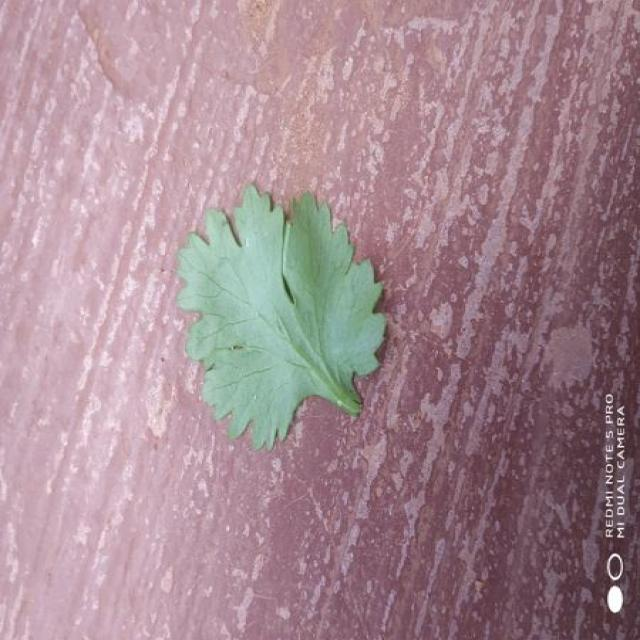coriender: (178, 185, 387, 448)
